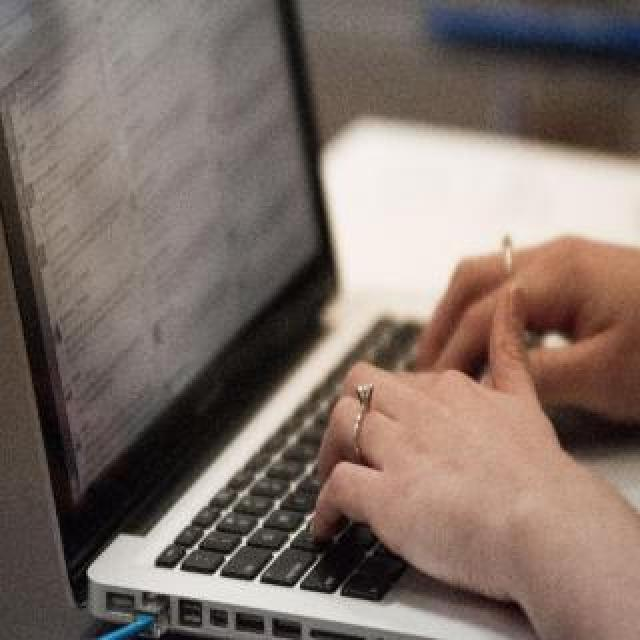laptop_computer: (3, 0, 560, 638)
